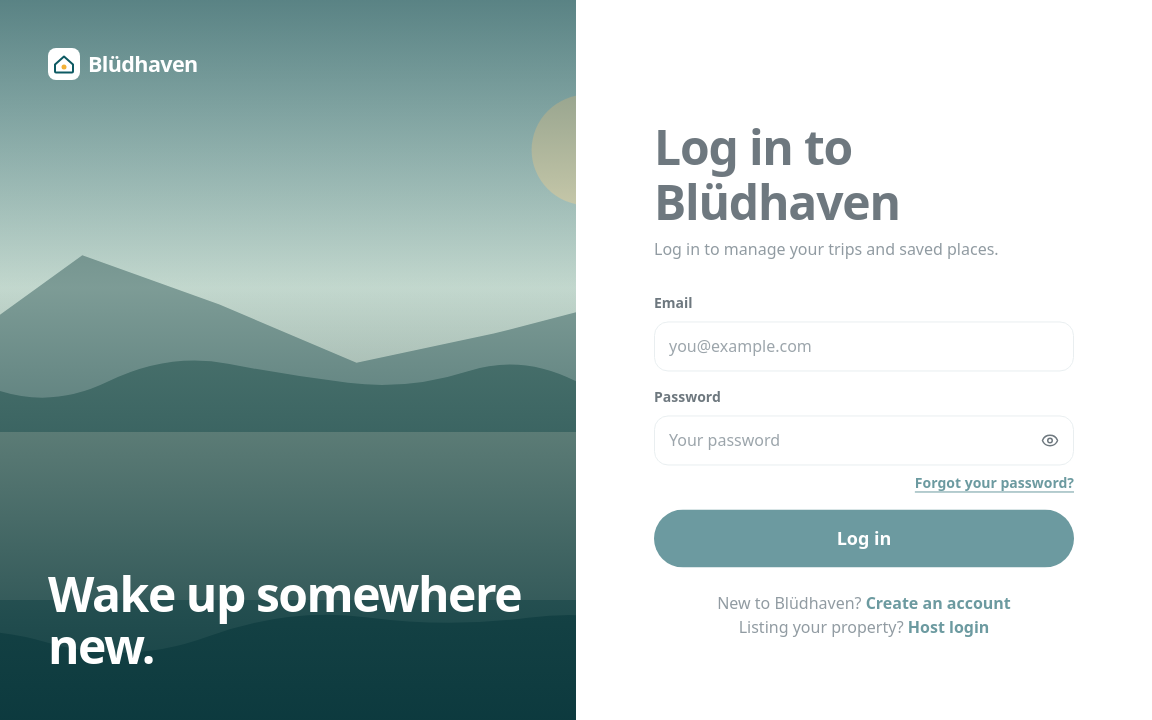
Test: Login with an unverified account › /login says the email must be verified, offers a new link, and signs nobody in
Type "ada@example.com" into the field labelled "Email" at (864,347), box [654, 322, 1074, 372]
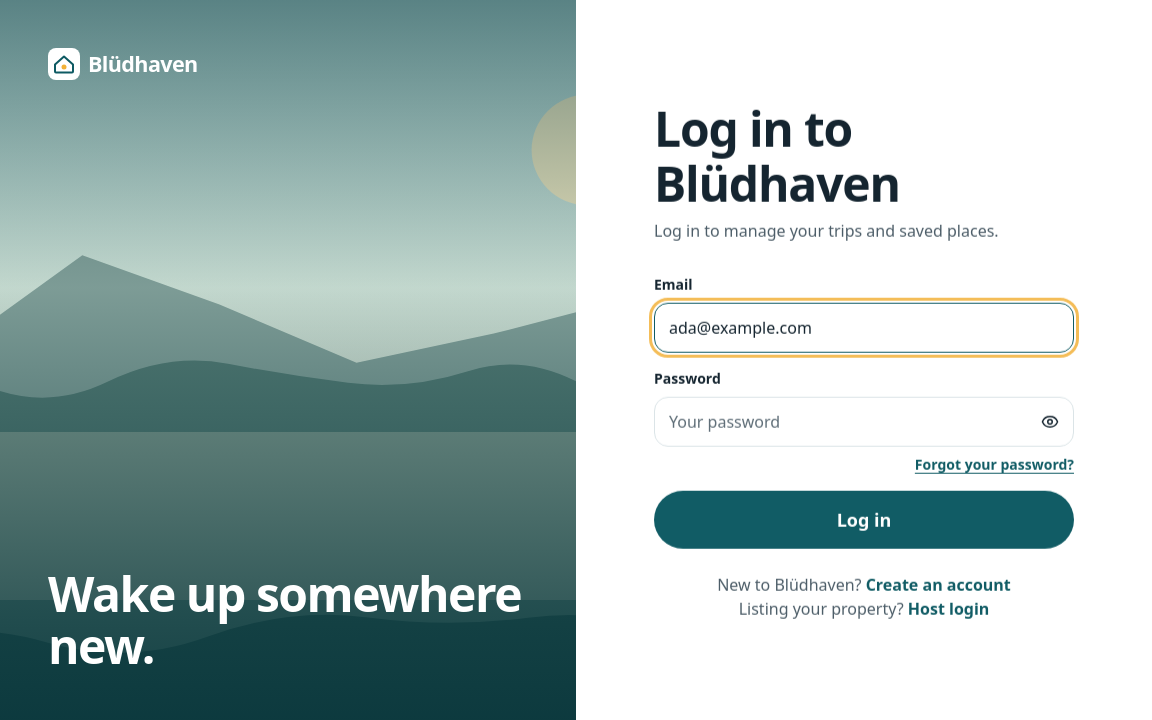
Type "Secret-pass-123" into the password field labelled "Password" at (864,422), box [654, 397, 1074, 447]
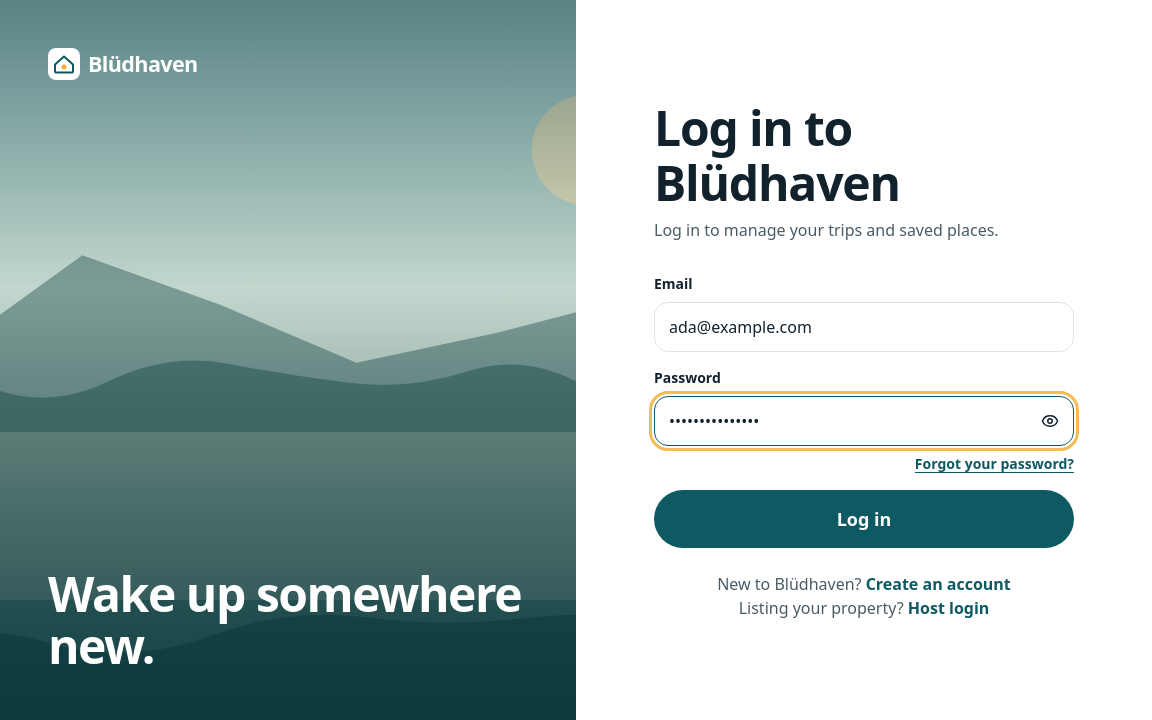
Click the button "Log in" at (864,519), box [654, 490, 1074, 548]
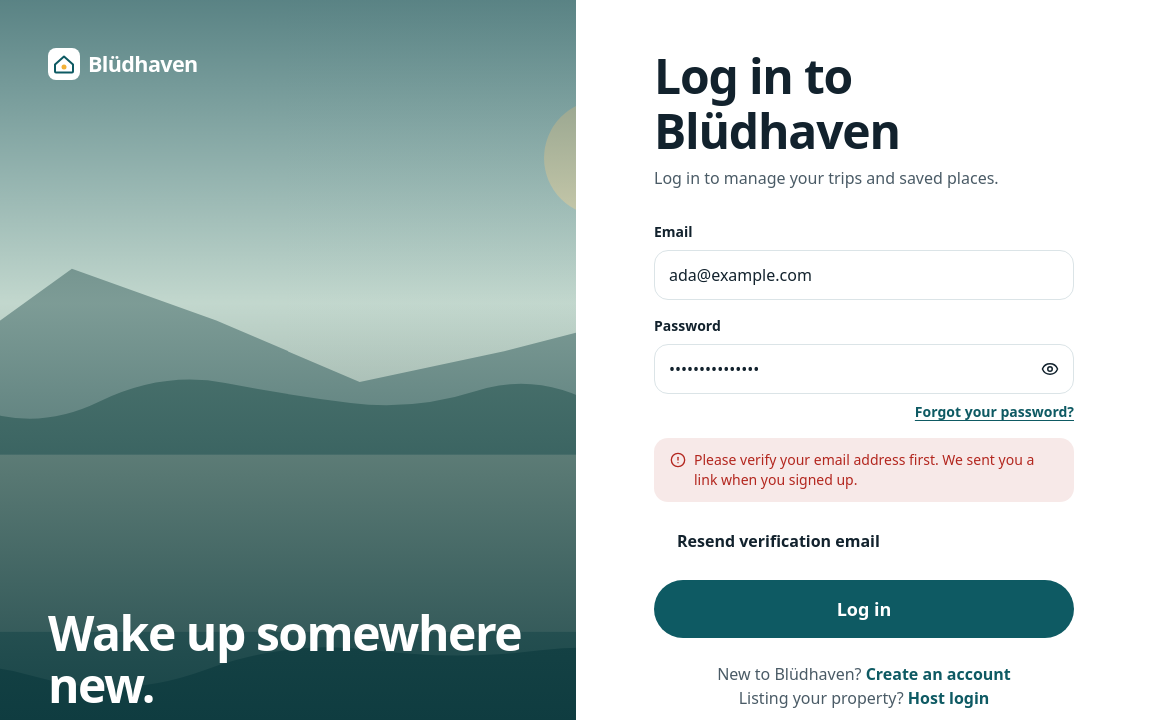
Expected: the link "Forgot your password?" is shown, [915, 402, 1074, 421]
Now the text "verify your email address" is shown, box [694, 450, 1034, 489]
Click the button "Resend verification email" at (778,541), box [654, 518, 903, 564]
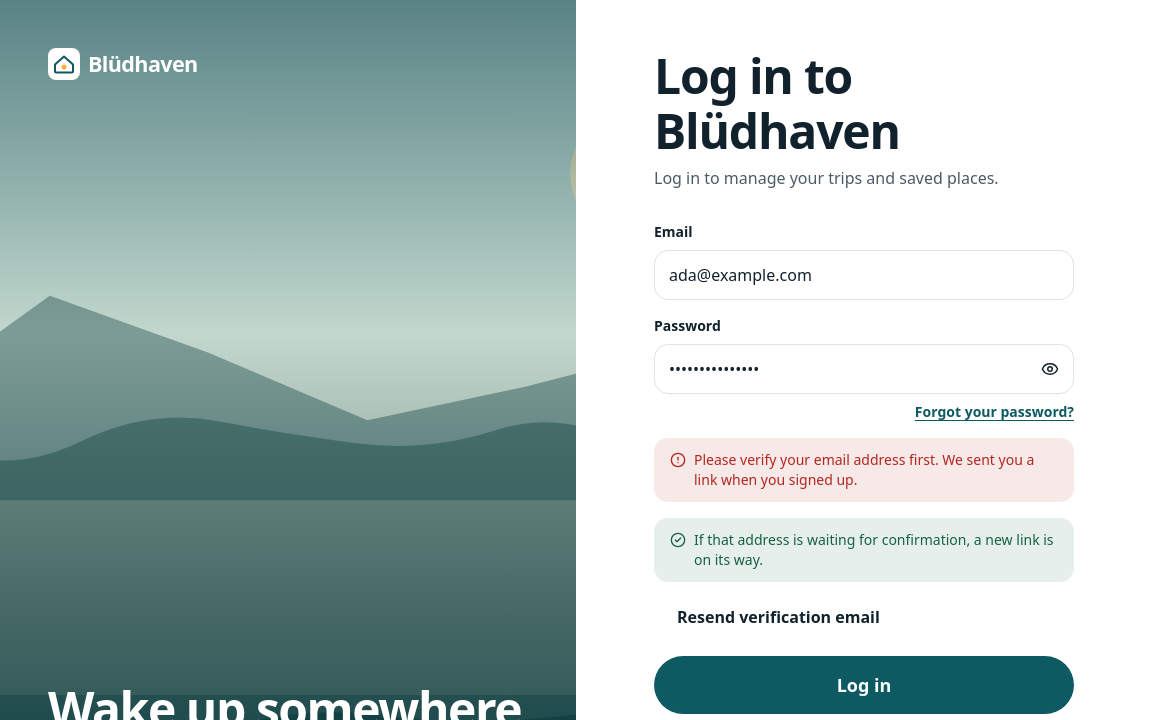
Now the text "new link is on its way" is shown, box [694, 530, 1054, 569]
